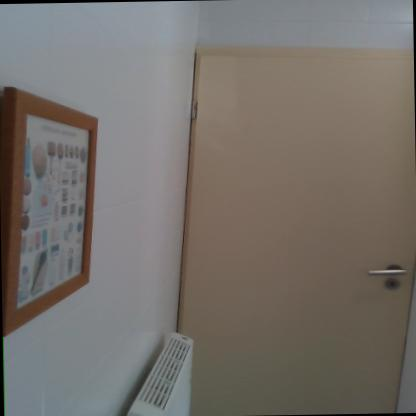closed: (185, 25, 406, 416)
